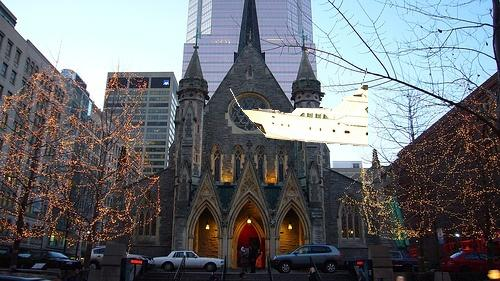tampered: (230, 69, 368, 146)
